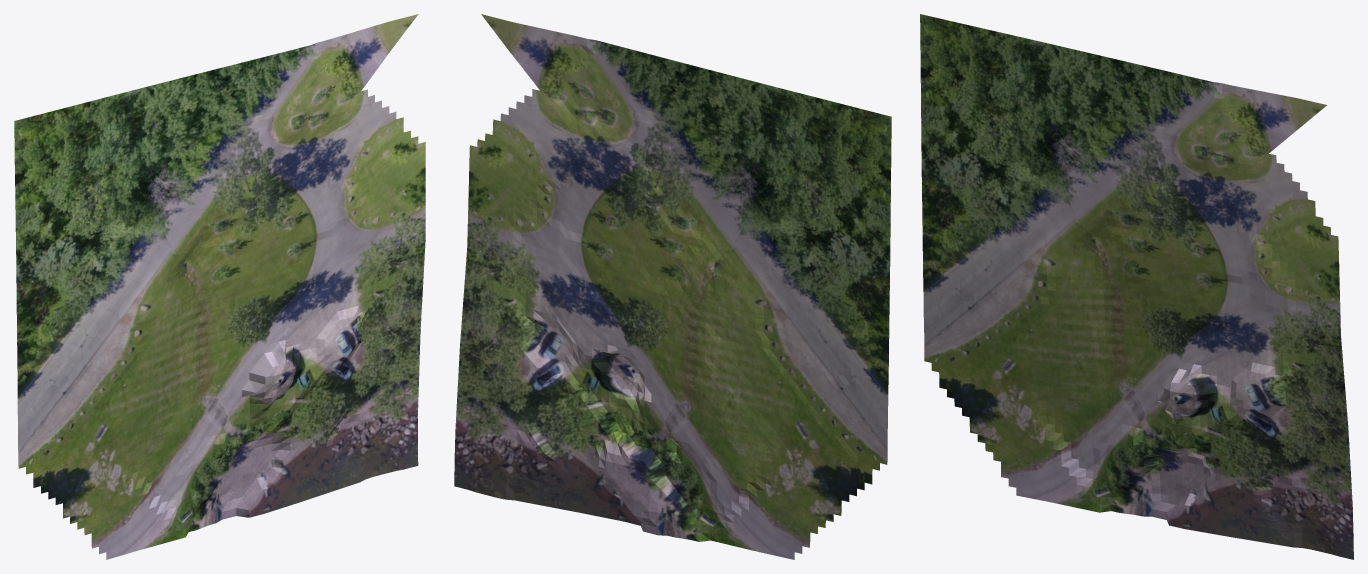
The model's file is odm_textured_model_geo.obj.
The picture shows the model from 3 angles, left to right: view 1: azimuth 30°, elevation 25°; view 2: azimuth 150°, elevation 25°; view 3: azimuth 330°, elevation 25°; orthographic projection.
Bounding box in the file's own units: 70.61 × 75.31 × 6.14.
1 material, 1 textured.
